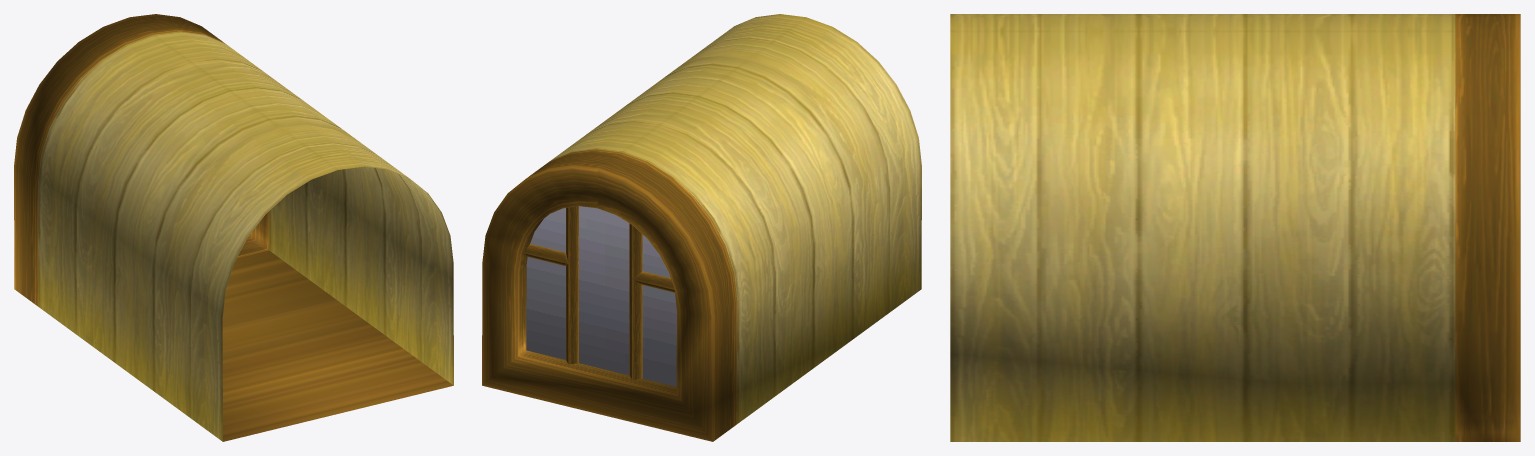
Rendered from INST_HTOWN_WINDOWB.fbx.
The picture shows the model from 3 angles, left to right: view 1: azimuth 30°, elevation 25°; view 2: azimuth 150°, elevation 25°; view 3: azimuth 270°, elevation 25°; orthographic projection. The views are drawn at different scales.
Parts seen in each view (by area): view 1: INST_HTOWN_WINDOWB; view 2: INST_HTOWN_WINDOWB; view 3: INST_HTOWN_WINDOWB.
Boxes of the visible parts, left/top/right/bottom form: INST_HTOWN_WINDOWB: left=14, top=14, right=453, bottom=441; INST_HTOWN_WINDOWB: left=482, top=14, right=921, bottom=441; INST_HTOWN_WINDOWB: left=950, top=14, right=1520, bottom=441.
Bounding box in the file's own units: 8281 × 8346 × 12933.
4 materials, 4 textured.
